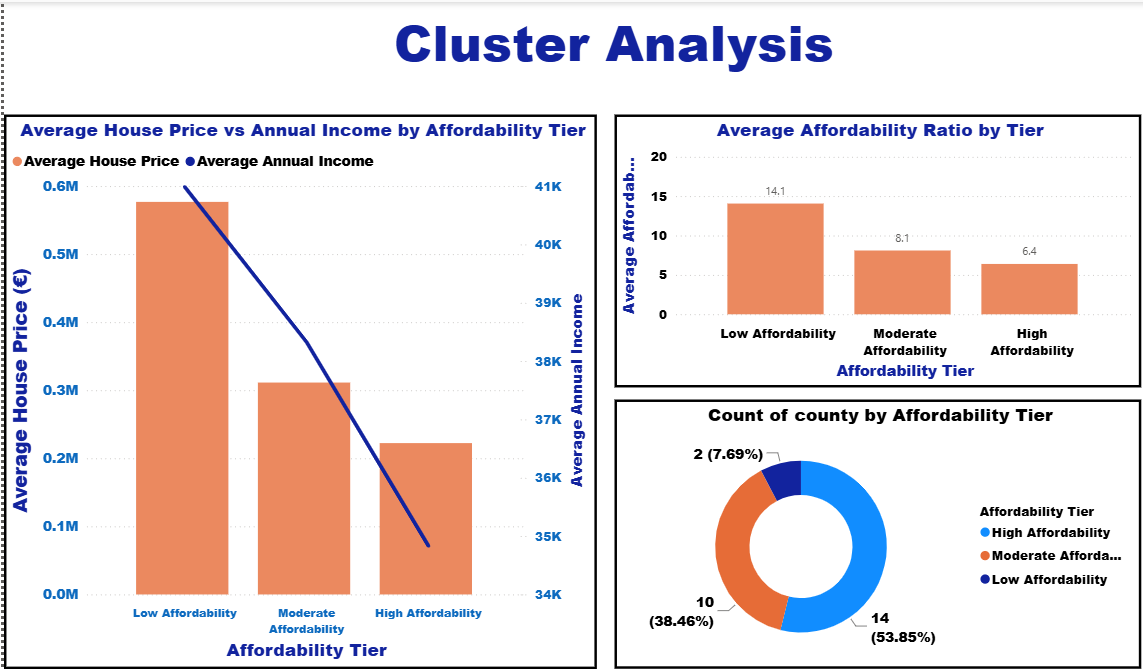

The page's visual inventory and layout, read from the dashboard file:
{"tool":"powerbi","page":{"name":"Cluster Analysis","canvas":[1280,720],"ordinal":2},"visuals":[{"type":"textbox","box":[338.1,0,640.3,88.8],"z":0},{"type":"lineClusteredColumnComboChart","title":"Average House Price vs Annual Income by Affordability Tier","fields":{"Y2":["Avg(irish_housing_final.annual_income)"],"Category":["irish_housing_final.affordability_tier"],"Y":["Avg(irish_housing_final.avg_house_price)"]},"box":[0,120.9,640.3,598.8],"z":1000},{"type":"clusteredColumnChart","title":"Average Affordability Ratio by Tier","fields":{"Category":["irish_housing_final.affordability_tier"],"Y":["Avg(irish_housing_final.affordability_ratio)"]},"box":[659.2,120.9,568.5,294.7],"z":2000},{"type":"donutChart","fields":{"Category":["irish_housing_final.affordability_tier"],"Y":["CountNonNull(irish_housing_final.county)"]},"box":[659.2,428.8,568.5,290.9],"z":3000}]}

Visuals, with their boxes in screenshot pixels (x1, y1, x2, y2):
textbox: (321,6,905,87)
"Average House Price vs Annual Income by Affordability Tier" lineClusteredColumnComboChart: (12,116,596,663)
"Average Affordability Ratio by Tier" clusteredColumnChart: (614,116,1133,385)
donutChart - irish_housing_final.affordability_tier x CountNonNull(irish_housing_final.county): (614,397,1133,663)
